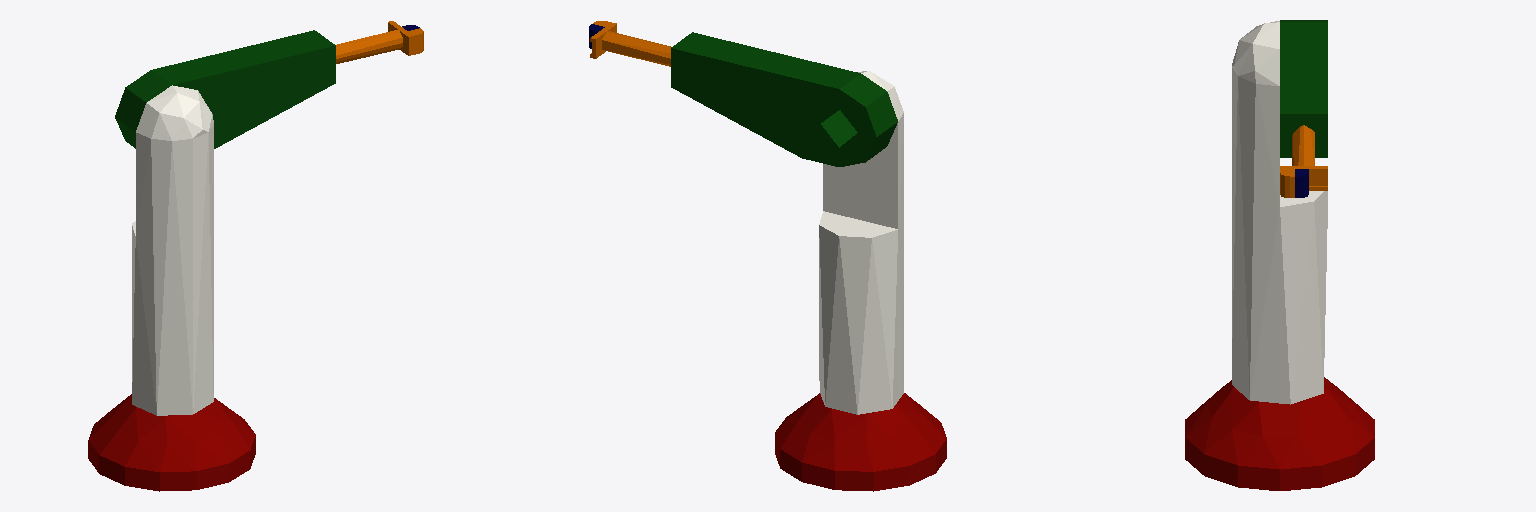
The robot description file, URDF, robot "fifi":
<?xml version="1.0" ?>
<robot name="fifi" version="1.0">
  <joint name="upperarm_forearm" type="prismatic">
    <origin xyz="0.049999999999999975 -0.15 0.050000000000000114" rpy="1.5896965726302545e-17 -2.606945736351794e-17 -1.5707963267948966"/>
    <axis xyz="1 0 0"/>
    <parent link="upperarm"/>
    <child link="forearm"/>
    <limit effort="1000" lower="-1.548" upper="1.548" velocity="0.5"/>
  </joint>
  <joint name="forearm_gripper" type="prismatic">
    <origin xyz="0.5150000099092719 0.0499999999999995 0.025000000000000456" rpy="9.373400549266757e-16 -3.404356883972169e-17 -1.570796326794856"/>
    <axis xyz="1 0 0"/>
    <parent link="forearm"/>
    <child link="gripper"/>
    <limit effort="1000" lower="-1.548" upper="1.548" velocity="0.5"/>
  </joint>
  <joint name="forearm_grippercenter" type="fixed">
    <origin xyz="0.5350000099092719 -9.947598300641403e-17 4.547473508864641e-16" rpy="1.8648277366750716e-16 1.5707963267948961 0.0"/>
    <axis xyz="1 0 0"/>
    <parent link="forearm"/>
    <child link="grippercenter"/>
    <limit effort="1000" lower="-1.548" upper="1.548" velocity="0.5"/>
  </joint>
  <joint name="base_pillar" type="revolute">
    <origin xyz="1.130678486794346e-16 -3.551106571559647e-17 0.1" rpy="0.07862783327530606 -1.570796326794895 -0.07862783327530617"/>
    <axis xyz="1 0 0"/>
    <parent link="base"/>
    <child link="pillar"/>
    <limit effort="1000" lower="-1.548" upper="1.548" velocity="0.5"/>
  </joint>
  <joint name="pillar_upperarm" type="revolute">
    <origin xyz="0.775 1.5706654524051988e-16 1.4001861794794053e-15" rpy="1.570796326794896 -1.1102230246251565e-16 1.5707963267948968"/>
    <axis xyz="1 0 0"/>
    <parent link="pillar"/>
    <child link="upperarm"/>
    <limit effort="1000" lower="-1.548" upper="1.548" velocity="0.5"/>
  </joint>
  <link name="forearm">
    <visual>
      <origin xyz="-0.1499999999999993 -0.05 -0.9250000000000002" rpy="-3.404356883968544e-17 -8.326057456882182e-16 -1.86482773667507e-16"/>
      <geometry>
        <mesh filename="package://robot_arm/meshes/link_forearm_0.stl"/>
      </geometry>
      <material name="color3">
        <color rgba="0.8069522380828857 0.41788506507873535 0.016807375475764275 1"/>
      </material>
    </visual>
  </link>
  <link name="upperarm">
    <visual>
      <origin xyz="-4.252363031521377e-17 -7.478248673434915e-16 -0.875" rpy="-1.814660311338287e-17 -8.586752030517361e-16 -1.5707963267948966"/>
      <geometry>
        <mesh filename="package://robot_arm/meshes/link_upperarm_0.stl"/>
      </geometry>
      <material name="color2">
        <color rgba="0.05780543014407158 0.3049873113632202 0.06480326503515244 1"/>
      </material>
    </visual>
  </link>
  <link name="gripper">
    <visual>
      <origin xyz="0.09999999999997242 -0.6650000099092762 -0.9499999999999998" rpy="-2.1385526102475867e-30 1.0473430923845879e-16 1.5707963267948557"/>
      <geometry>
        <mesh filename="package://robot_arm/meshes/link_gripper_0.stl"/>
      </geometry>
      <material name="color4">
        <color rgba="0.02955683507025242 0.04373503103852272 0.3049873113632202 1"/>
      </material>
    </visual>
  </link>
  <link name="grippercenter"/>
  <link name="base">
    <visual>
      <origin xyz="-0.0 -0.0 -0.0" rpy="0.0 -0.0 0.0"/>
      <geometry>
        <mesh filename="package://robot_arm/meshes/robot_base0.stl"/>
      </geometry>
      <material name="color0">
        <color rgba="0.5520114302635193 0.03560131415724754 0.020288562402129173 1"/>
      </material>
    </visual>
  </link>
  <link name="pillar">
    <visual>
      <origin xyz="-0.1 2.3264597724122947e-17 -5.3465605014339346e-17" rpy="0.0612461921254255 1.570796326794895 0.06124619212542564"/>
      <geometry>
        <mesh filename="package://robot_arm/meshes/Component30.stl"/>
      </geometry>
      <material name="color1">
        <color rgba="0.9646862745285034 0.9559733271598816 0.9130986332893372 1"/>
      </material>
    </visual>
  </link>
</robot>

--- Render facts (derived) ---
3 views of the same robot in one strip: view 1: azimuth 30°, elevation 25°; view 2: azimuth 150°, elevation 25°; view 3: azimuth 270°, elevation 25° (orthographic).
Model fifi with 6 links and 5 joints (2 revolute, 2 prismatic, 1 fixed), rooted at base, posed every joint at zero.
Links seen in each view (by area): view 1: pillar, upperarm, base, forearm; view 2: pillar, upperarm, base, forearm; view 3: pillar, base, upperarm, forearm.
Link boxes in pixels (x1,y1,x2,y2): pillar: (132, 85, 213, 415); upperarm: (115, 30, 335, 148); base: (88, 394, 255, 491); forearm: (336, 21, 423, 63); pillar: (819, 71, 903, 414); upperarm: (671, 32, 897, 166); base: (775, 393, 946, 491); forearm: (590, 21, 670, 66); pillar: (1232, 21, 1327, 404); base: (1185, 377, 1374, 490); upperarm: (1280, 20, 1327, 157); forearm: (1280, 125, 1327, 197).
Bounding box of the posed robot: 0.9 × 0.39 × 0.975 m (x, y, z).
Meshes: 5 distinct files referenced, 5 mesh visuals loaded (5 ASCII STL).
